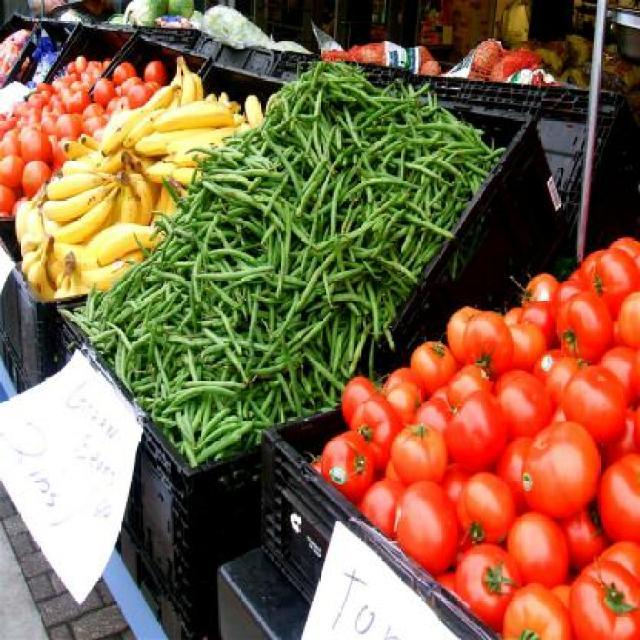Tomato: (313, 235, 639, 638), (0, 54, 172, 220), (402, 486, 464, 568)
